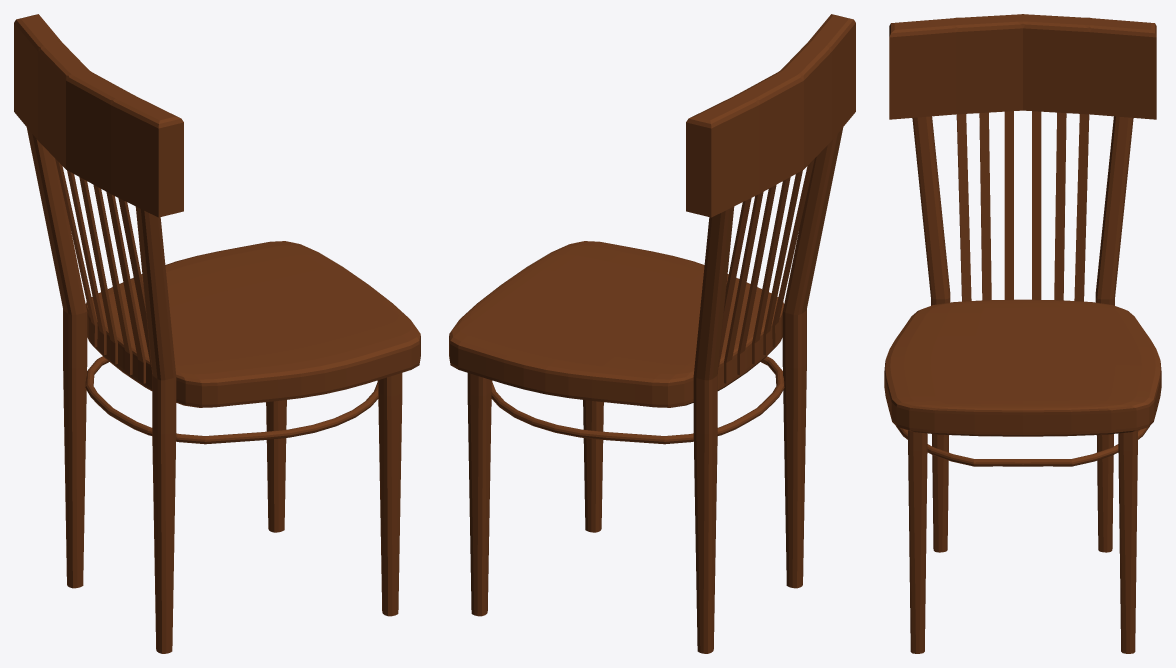
The model's file is NEWGAME_CHAIR WOOD.fbx.
3 renders of one model, left to right at view 1: azimuth 30°, elevation 25°; view 2: azimuth 150°, elevation 25°; view 3: azimuth 270°, elevation 25°, orthographic. The views are drawn at different scales.
Visible parts, largest first — view 1: Cube.010, Cube.013, Cube.012, Cube.016, Cube.011, Circle; view 2: Cube.010, Cube.013, Cube.012, Cube.016, Cube.011, Circle; view 3: Cube.010, Cube.012, Cube.016, Cube.013, Cube.011, Circle.
Boxes of the visible parts, x1=… form: Cube.010: x1=85, y1=241, x2=420, y2=407; Cube.013: x1=26, y1=127, x2=176, y2=653; Cube.012: x1=14, y1=14, x2=183, y2=217; Cube.016: x1=55, y1=158, x2=152, y2=388; Cube.011: x1=266, y1=373, x2=402, y2=616; Circle: x1=85, y1=356, x2=378, y2=444; Cube.010: x1=449, y1=241, x2=784, y2=407; Cube.013: x1=693, y1=127, x2=843, y2=653; Cube.012: x1=686, y1=14, x2=855, y2=217; Cube.016: x1=717, y1=158, x2=814, y2=388; Cube.011: x1=467, y1=373, x2=603, y2=616; Circle: x1=491, y1=356, x2=784, y2=444; Cube.010: x1=884, y1=299, x2=1161, y2=436; Cube.012: x1=889, y1=14, x2=1156, y2=119; Cube.016: x1=956, y1=111, x2=1089, y2=301; Cube.013: x1=912, y1=116, x2=1133, y2=552; Cube.011: x1=908, y1=430, x2=1137, y2=653; Circle: x1=896, y1=426, x2=1149, y2=466.
Size of the model in its own units: 462 by 815 by 395.
